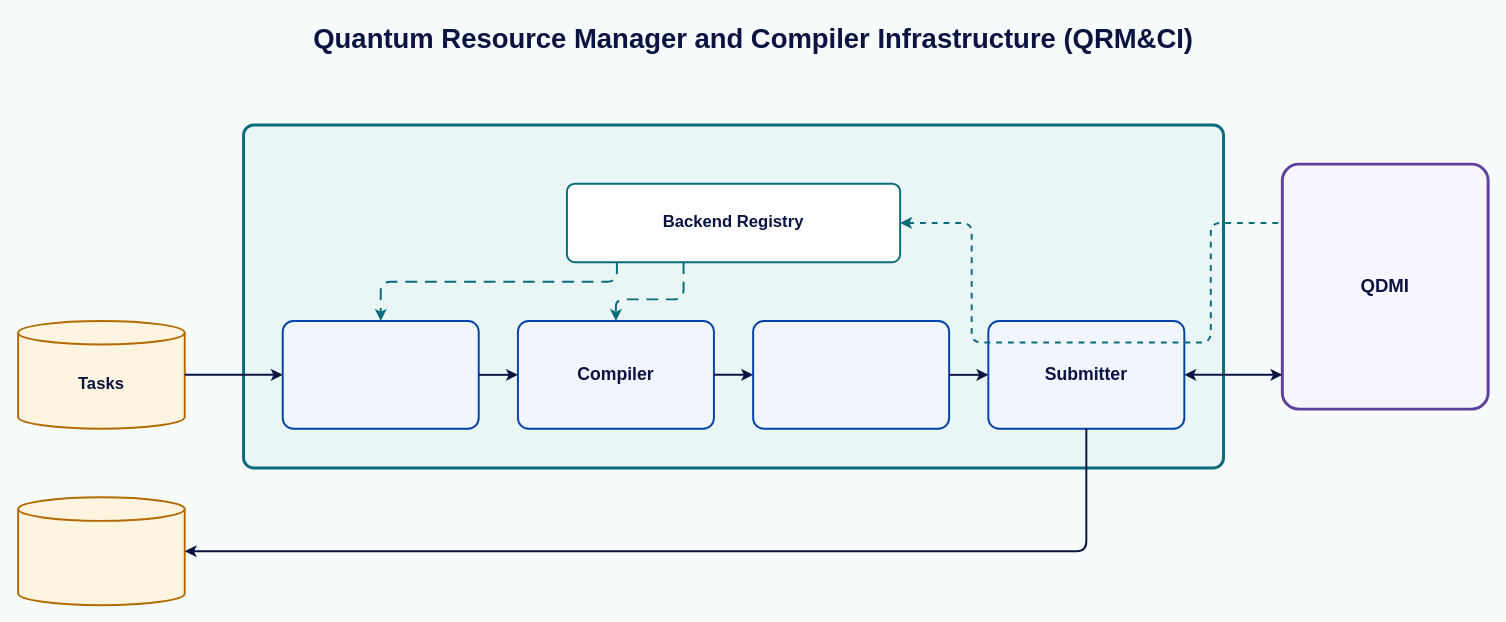
Some shapes in this 1506 by 622 pixel diagram are drawn without their labels. The box of each missing label's shape, as (x1, y1, x2, y2) in pixels:
Results: (17, 496, 185, 606)
Scheduler: (752, 319, 950, 429)
Selector: (281, 319, 479, 429)
